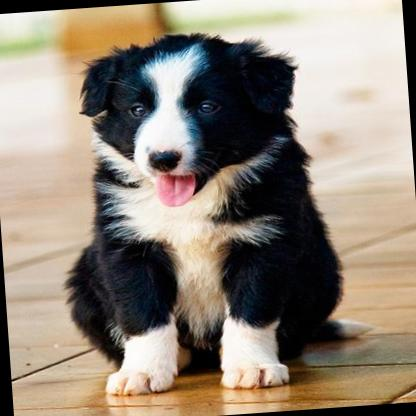collie: (41, 11, 384, 413)
